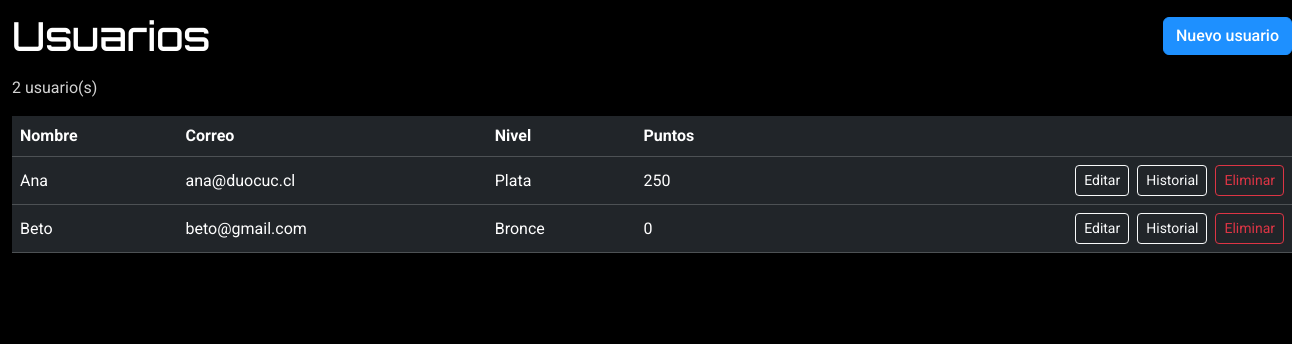
Test: AdminUsuariosView › muestra el error si no se pudo eliminar
This screenshot has width=1292, height=344.
Click the button with aria-label "Eliminar Ana" at (1250, 180), box [1216, 165, 1284, 196]
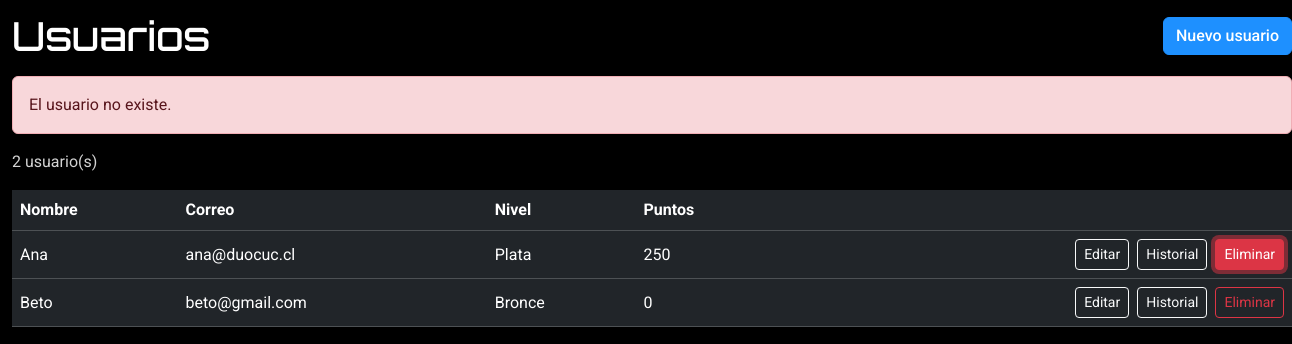
Expected: the message reads "El usuario no existe.", [29, 95, 171, 114]
